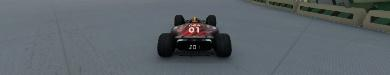Car: (156, 14, 231, 57)
obstacles-Borders: (241, 0, 389, 34), (296, 1, 366, 27)
